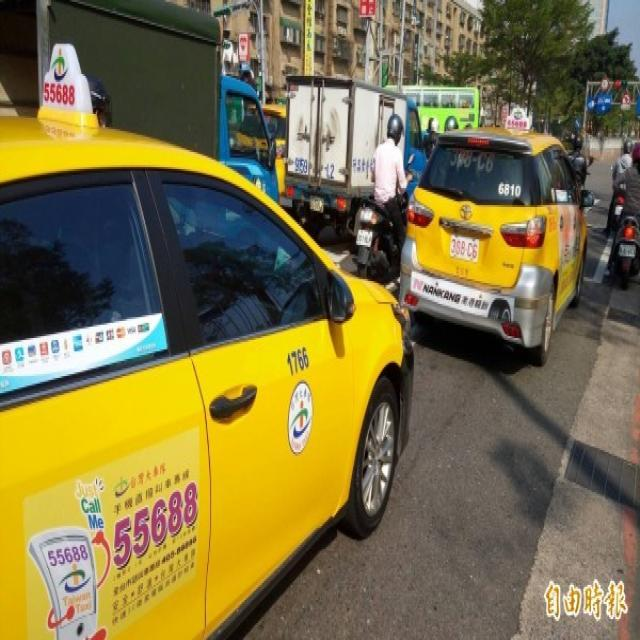taxi: (2, 37, 414, 640), (422, 75, 597, 397)
